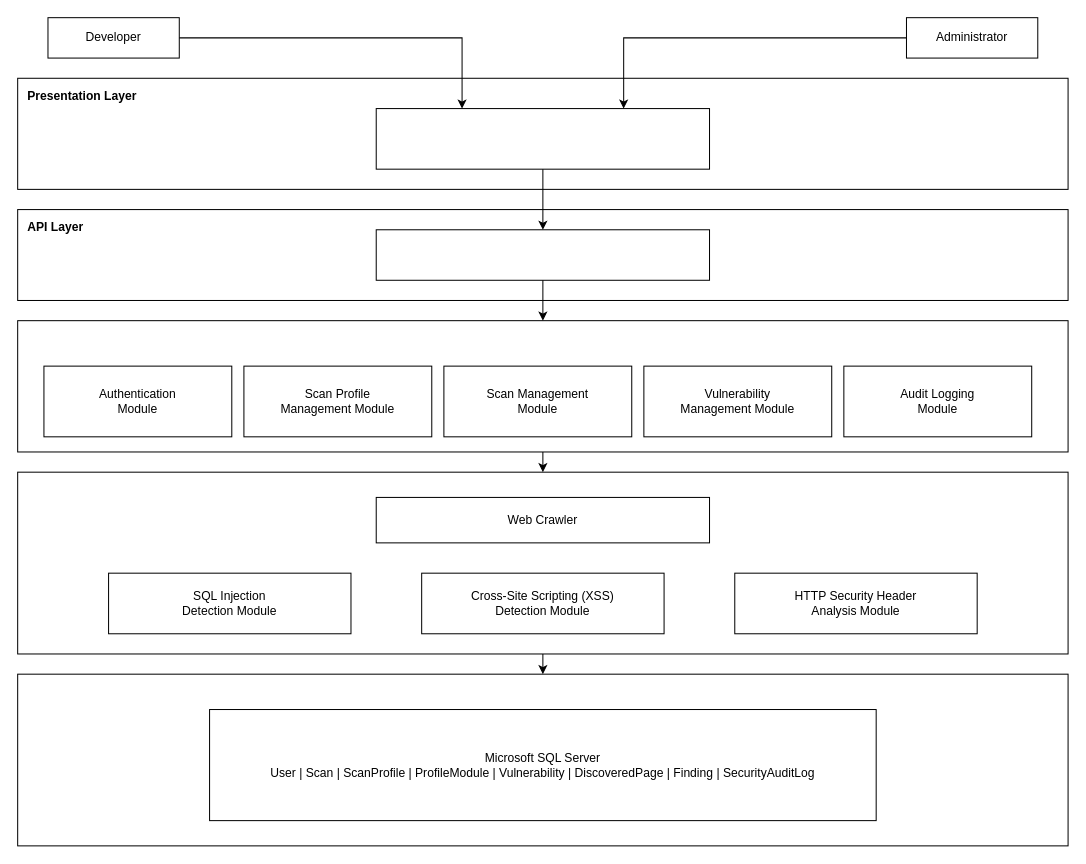
This 1086x864 diagram has some shape labels left out. The shapes that lost their labels are listed below. From the top down, each one's box as (x1, y1, x2, y2) in pixels, then its label:
(375, 108, 710, 169): VulnScan Web Application (Developer / Administrator Interfaces)
(375, 229, 710, 280): REST API (Flask)
(17, 320, 1068, 452): Business Logic Layer
(17, 471, 1068, 654): Scanner Engine Layer
(17, 673, 1068, 846): Data Layer
